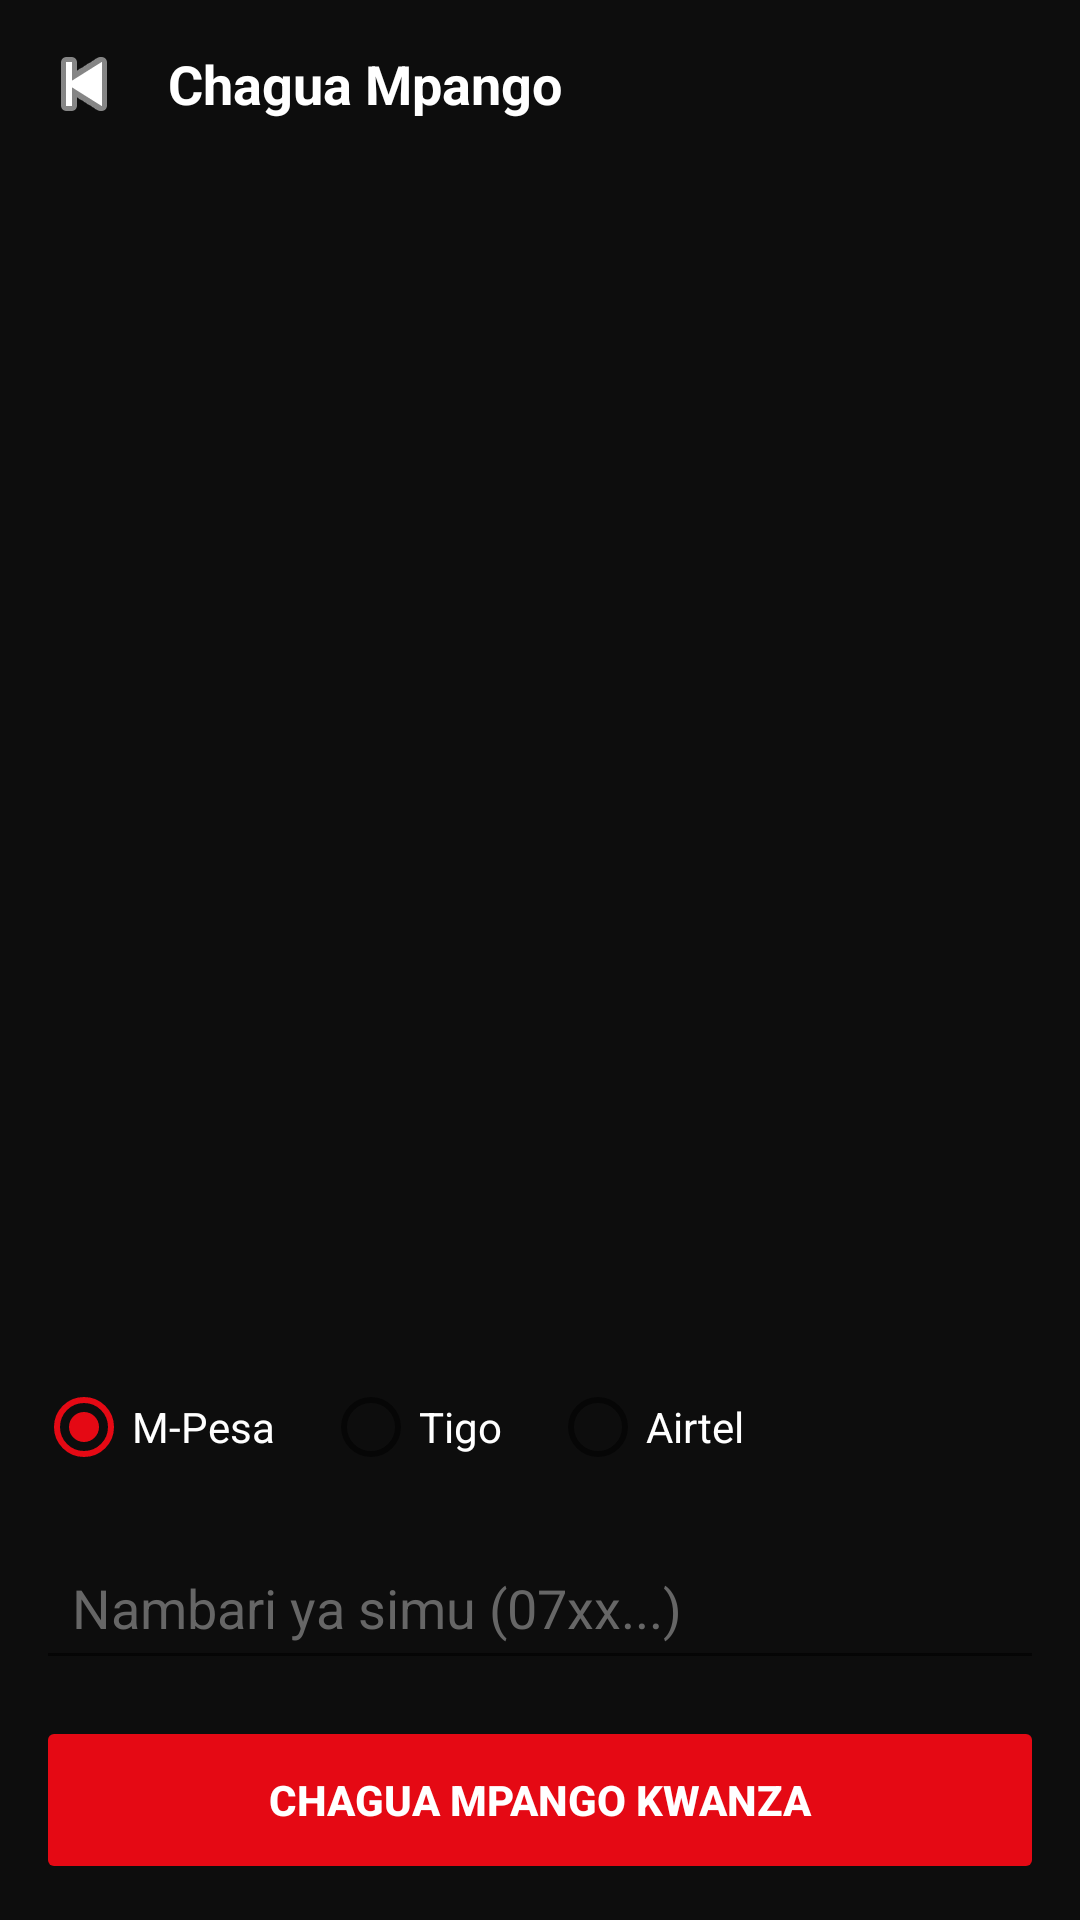

Locate icon controls on the screen. Image size 1080 × 1920, boxes as BBox(x1, y1, x2, y2).
previous: BBox(61, 57, 107, 111)
